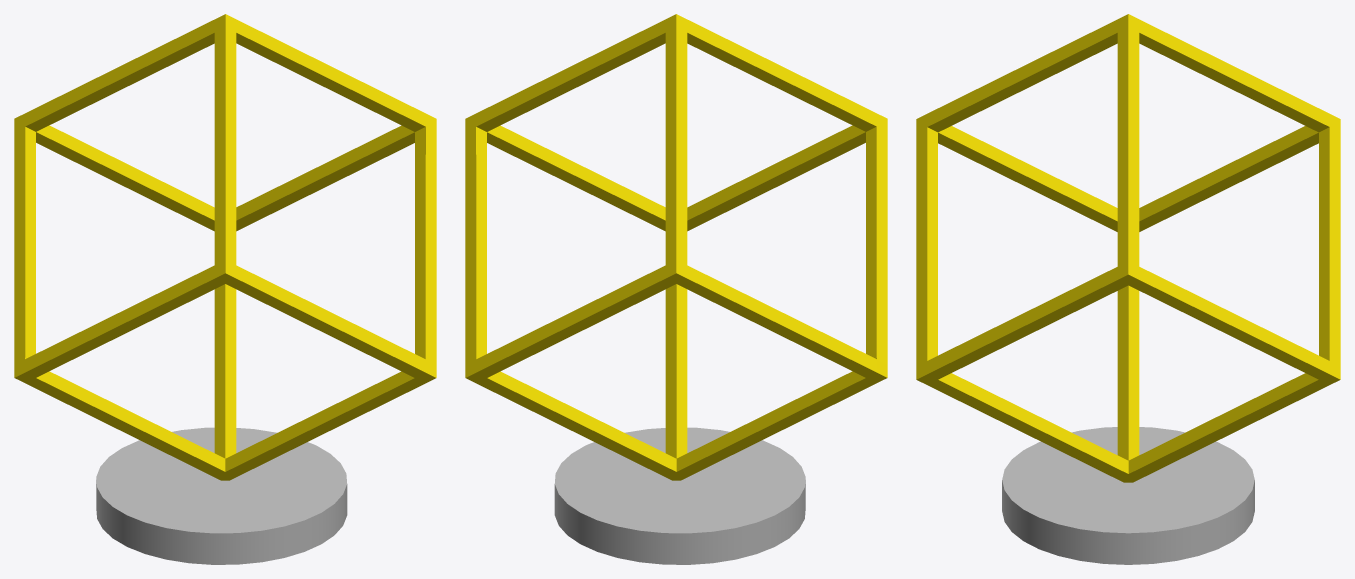
The model's file is Art-04.fbx.
3 views of the same model, side by side, from view 1: azimuth 30°, elevation 25°; view 2: azimuth 150°, elevation 25°; view 3: azimuth 270°, elevation 25° (orthographic).
Visible parts, largest first — view 1: Art-04; view 2: Art-04; view 3: Art-04.
Boxes of the visible parts, <box> form: Art-04: <box>14,14,436,564</box>; Art-04: <box>465,14,887,564</box>; Art-04: <box>916,14,1340,564</box>.
Size of what is drawn, in the model's own units: 4.9 by 5.51 by 4.24.
